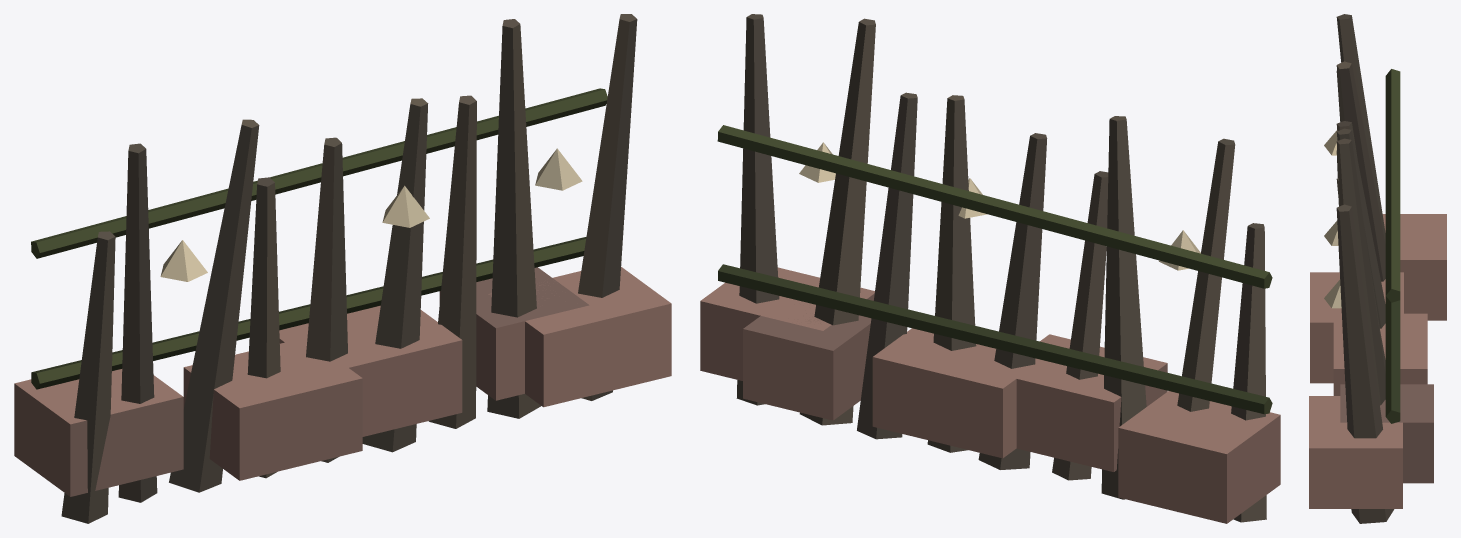
The model's file is reef_palisade.glb.
The picture shows the model from 3 angles, left to right: view 1: azimuth 30°, elevation 25°; view 2: azimuth 150°, elevation 25°; view 3: azimuth 270°, elevation 25°; orthographic projection. The views are drawn at different scales.
Visible parts, largest first — view 1: reef_palisade; view 2: reef_palisade; view 3: reef_palisade.
Part boxes in pixels (left/top/right/bottom): reef_palisade: left=14, top=14, right=671, bottom=523; reef_palisade: left=700, top=14, right=1280, bottom=523; reef_palisade: left=1309, top=14, right=1446, bottom=523.
Bounding box in the file's own units: 4.22 × 2.79 × 1.03.
Materials: 1 (1 with a texture image).
